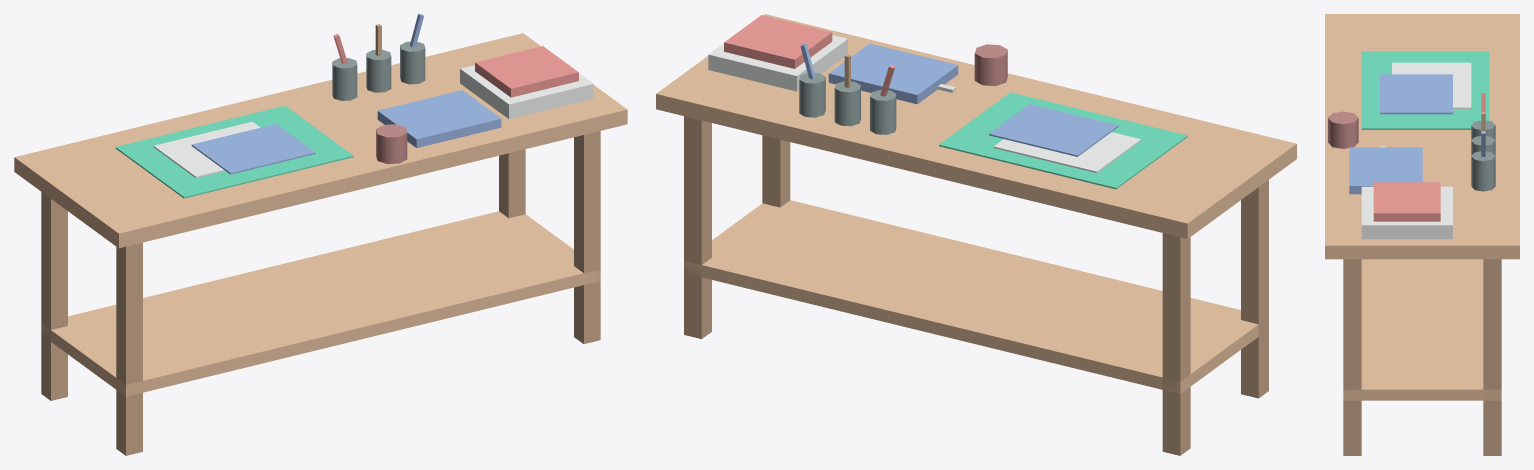
Rendered from craftTable.glb.
3 renders of one model, left to right at view 1: azimuth 30°, elevation 25°; view 2: azimuth 150°, elevation 25°; view 3: azimuth 270°, elevation 25°, orthographic. The views are drawn at different scales.
Visible parts, largest first — view 1: craftTable; view 2: craftTable; view 3: craftTable.
Boxes of the visible parts, x1,y1,x2,y2 form: craftTable: [14, 14, 627, 455]; craftTable: [656, 14, 1296, 455]; craftTable: [1325, 14, 1519, 455].
Bounding box in the file's own units: 0.9 × 0.501 × 0.32.
